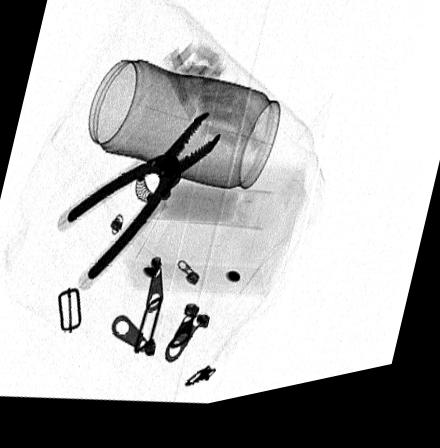Pliers: (66, 118, 221, 283)
